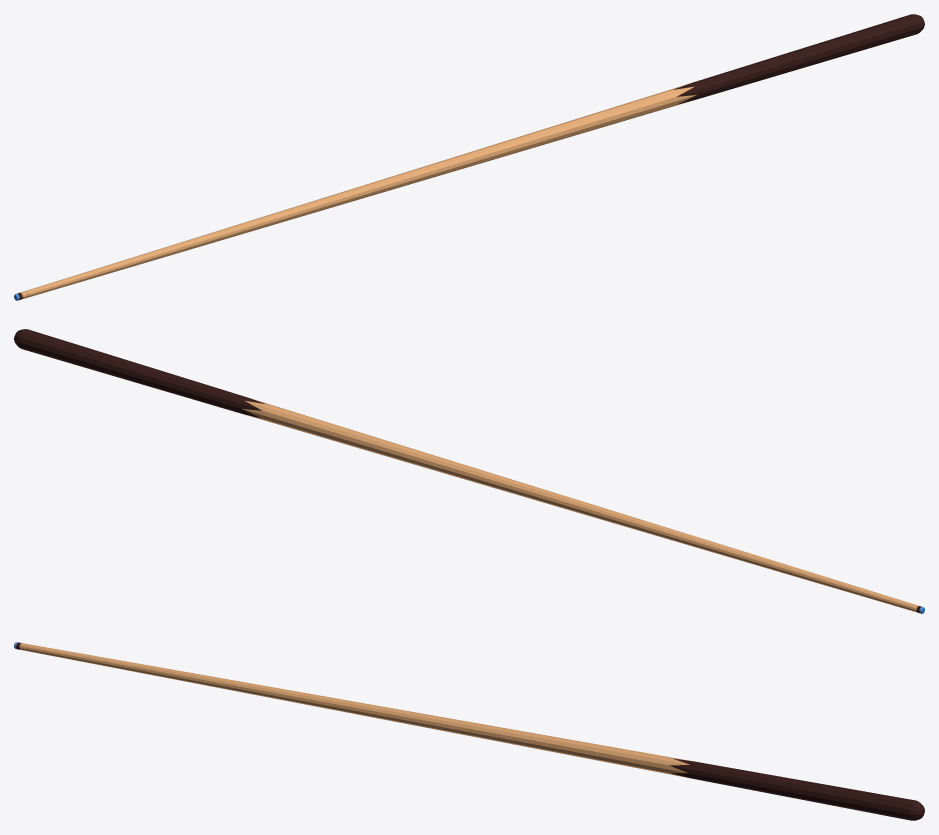
Rendered from Billiard_cue_oig.glb.
The picture shows the model from 3 angles, top to bottom: view 1: azimuth 30°, elevation 25°; view 2: azimuth 150°, elevation 25°; view 3: azimuth 330°, elevation 25°; orthographic projection.
Visible parts, largest first — view 1: 球杆; view 2: 球杆; view 3: 球杆.
Boxes of the visible parts, x1,y1,x2,y2 form: 球杆: [14, 14, 924, 300]; 球杆: [14, 329, 924, 613]; 球杆: [14, 642, 924, 820].
Size of the model in its own units: 1.94 by 0.1342 by 0.0383.
